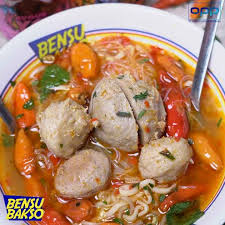bakso: (18, 33, 209, 225)
